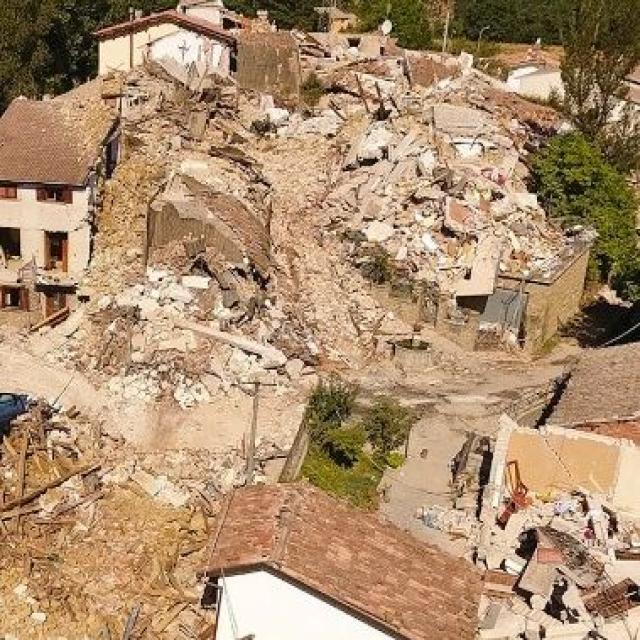collapsed_building: (140, 70, 571, 352), (471, 413, 638, 638)
